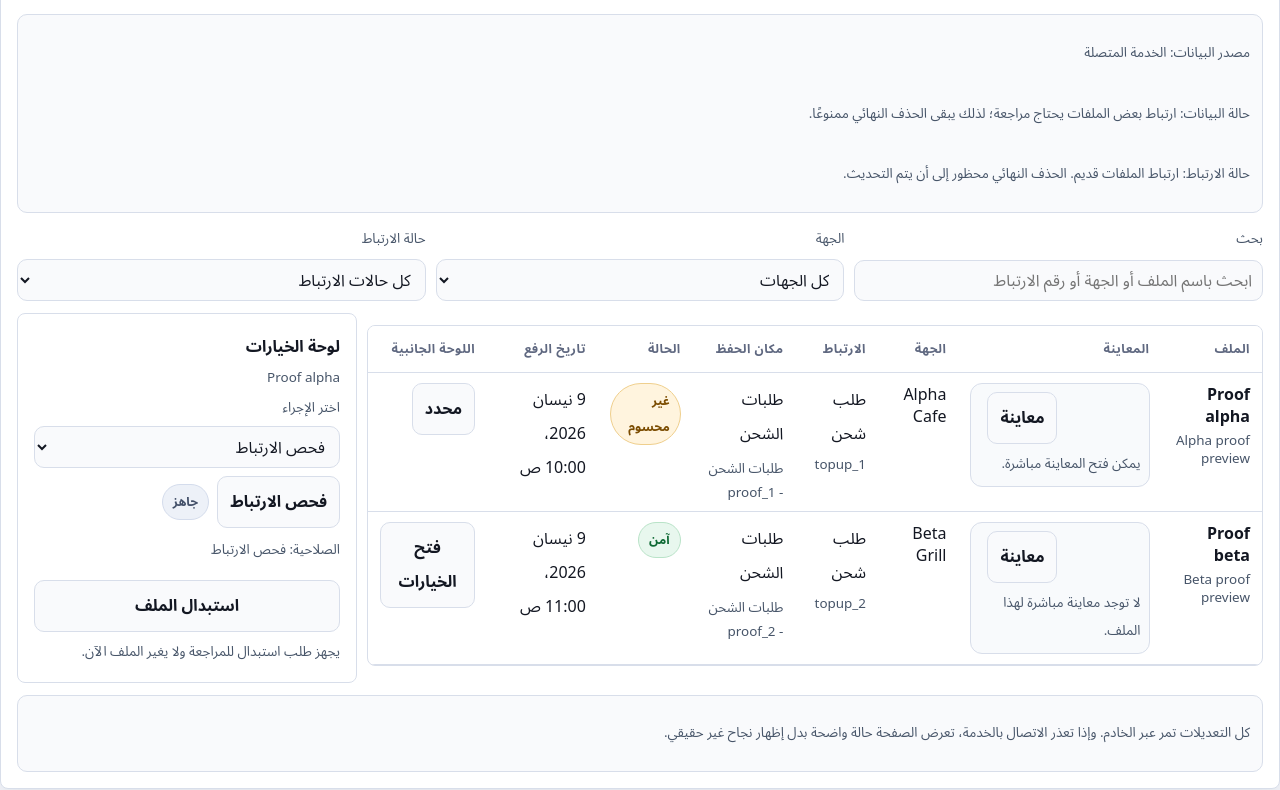
Test: media center shell › shows pending then success for a successful media command
The image size is (1280, 790).
(page scrolled)
Select "فحص الارتباط" in the dropdown with test id "media-action-select-proof_1" at (187, 447), box [34, 426, 340, 468]
Click the button with test id "media-action-run-proof_1" at (279, 502), box [217, 476, 340, 528]
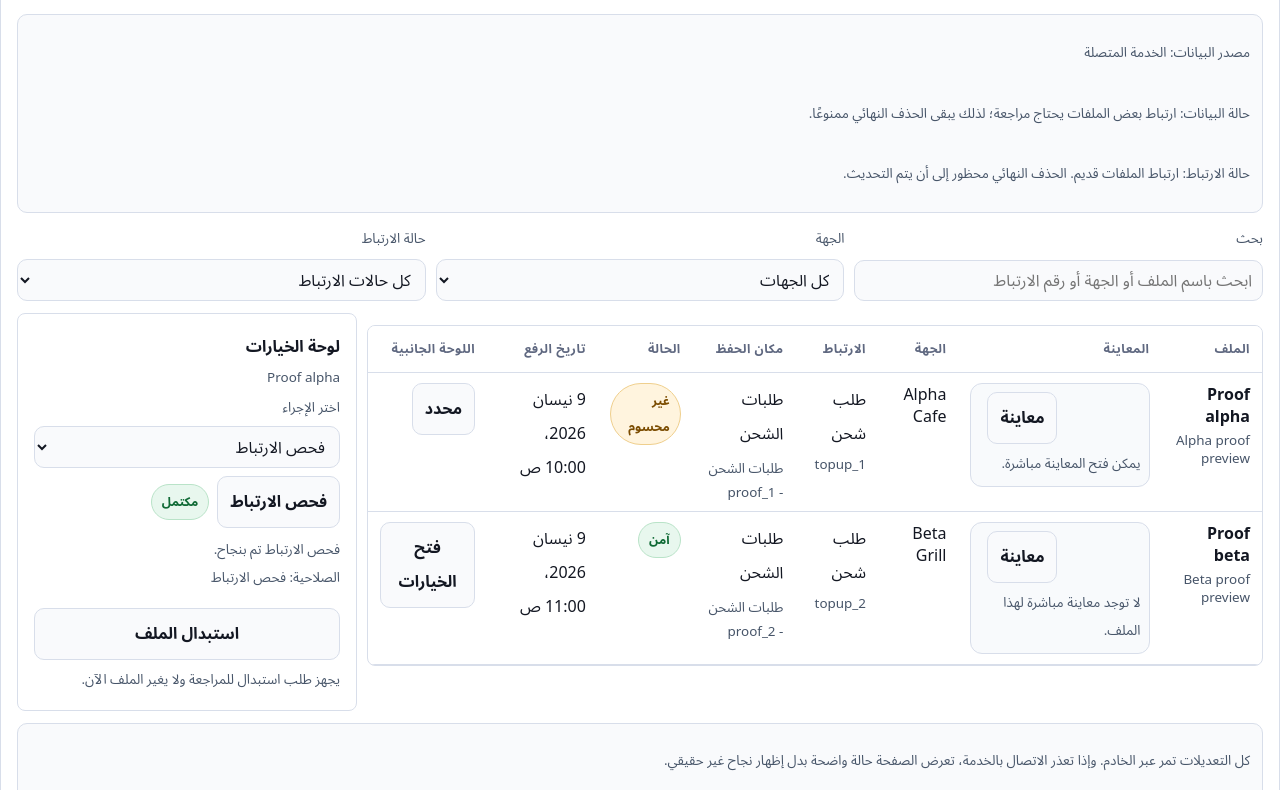
Expected: the text "قيد التنفيذ" is shown, [151, 484, 209, 520]
Now the text with test id "media-command-success-message" shows "فحص الارتباط تم بنجاح", box [214, 540, 340, 558]
